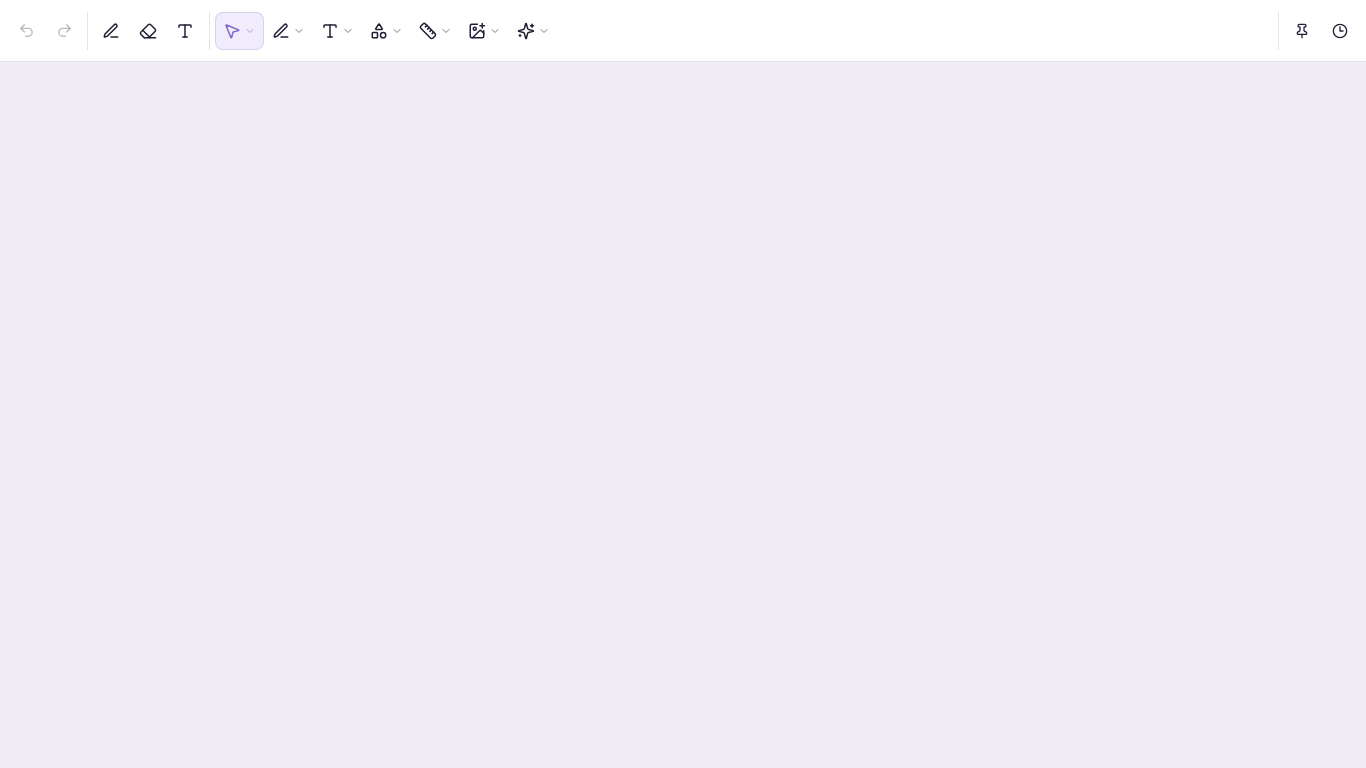
Notebook grouped toolbar › keeps user pins, filters tools, and remembers recent actions
Click the button named "Chèn": (484, 30) [460,12,509,50]
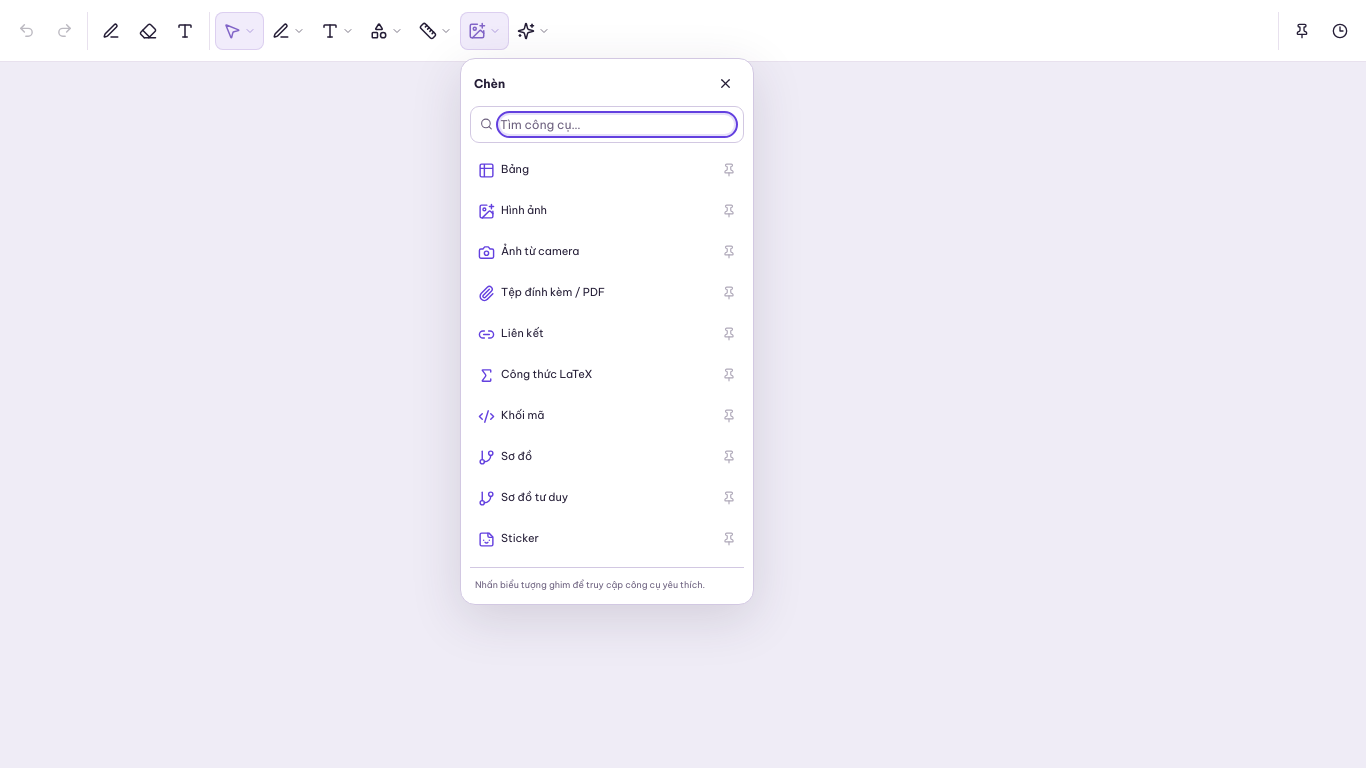
In the field labelled "Tìm công cụ": (617, 124) [500,114,734,134], type "Khối mã"
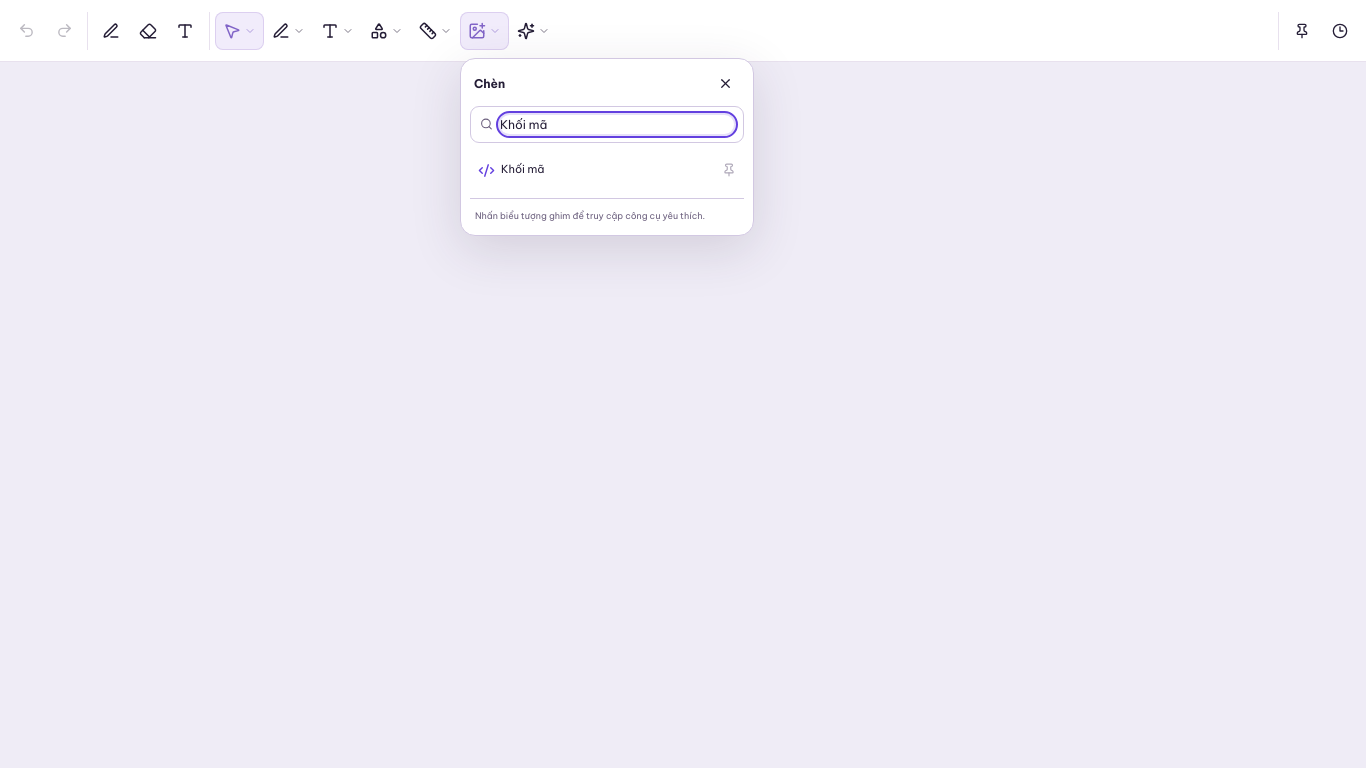
Expected: the menu item "Bảng" is gone
Click the button named "Ghim Khối mã": (729, 170) [714,153,744,188]
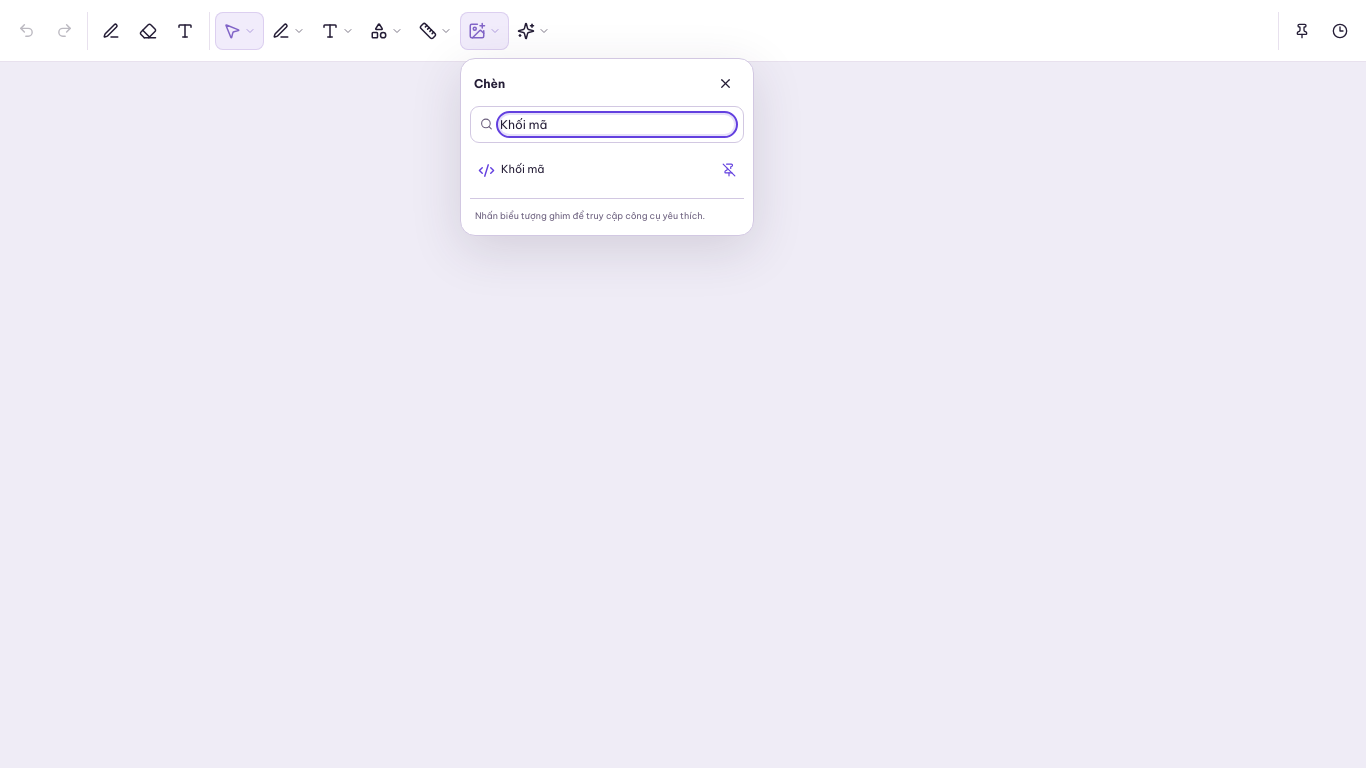
Click the menu item "Khối mã": (590, 170) [470,150,711,191]
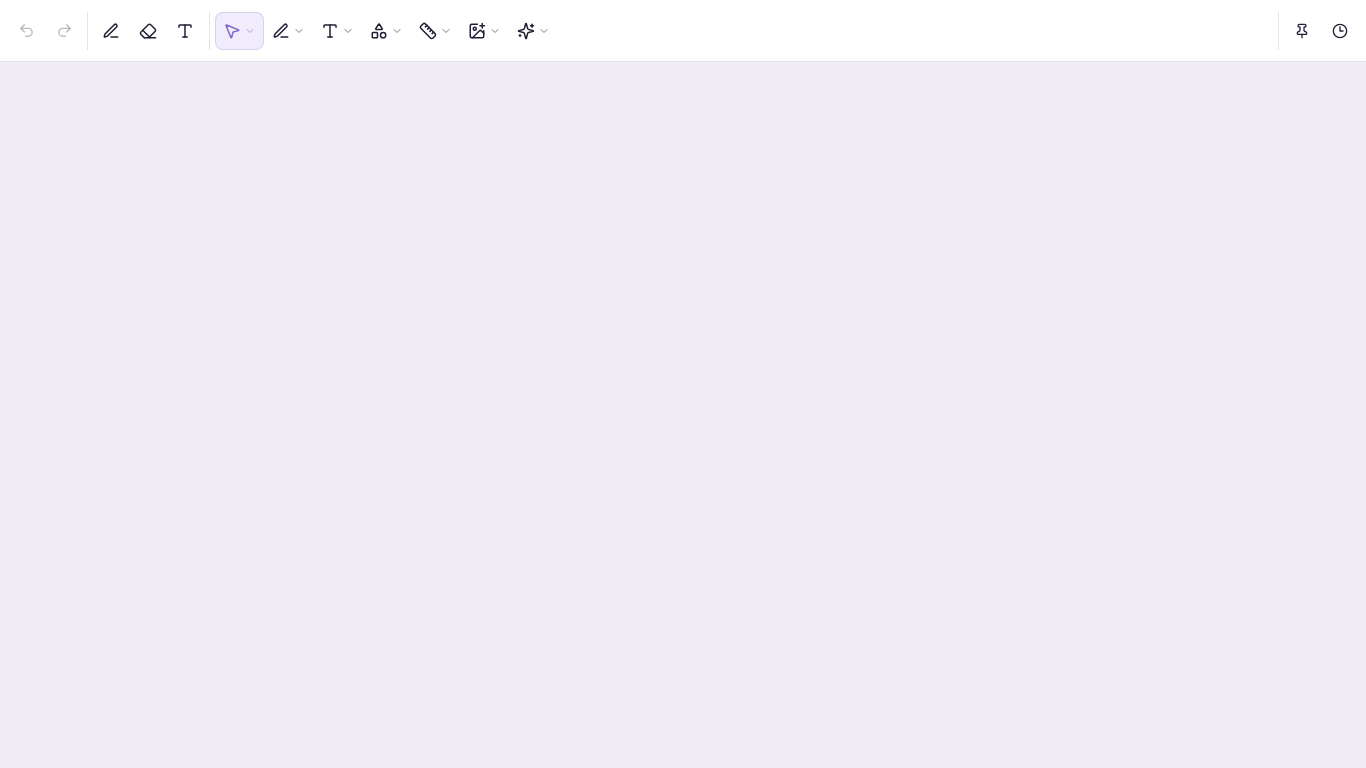
Click the button named "Công cụ vừa dùng": (1340, 30) [1322,12,1358,50]
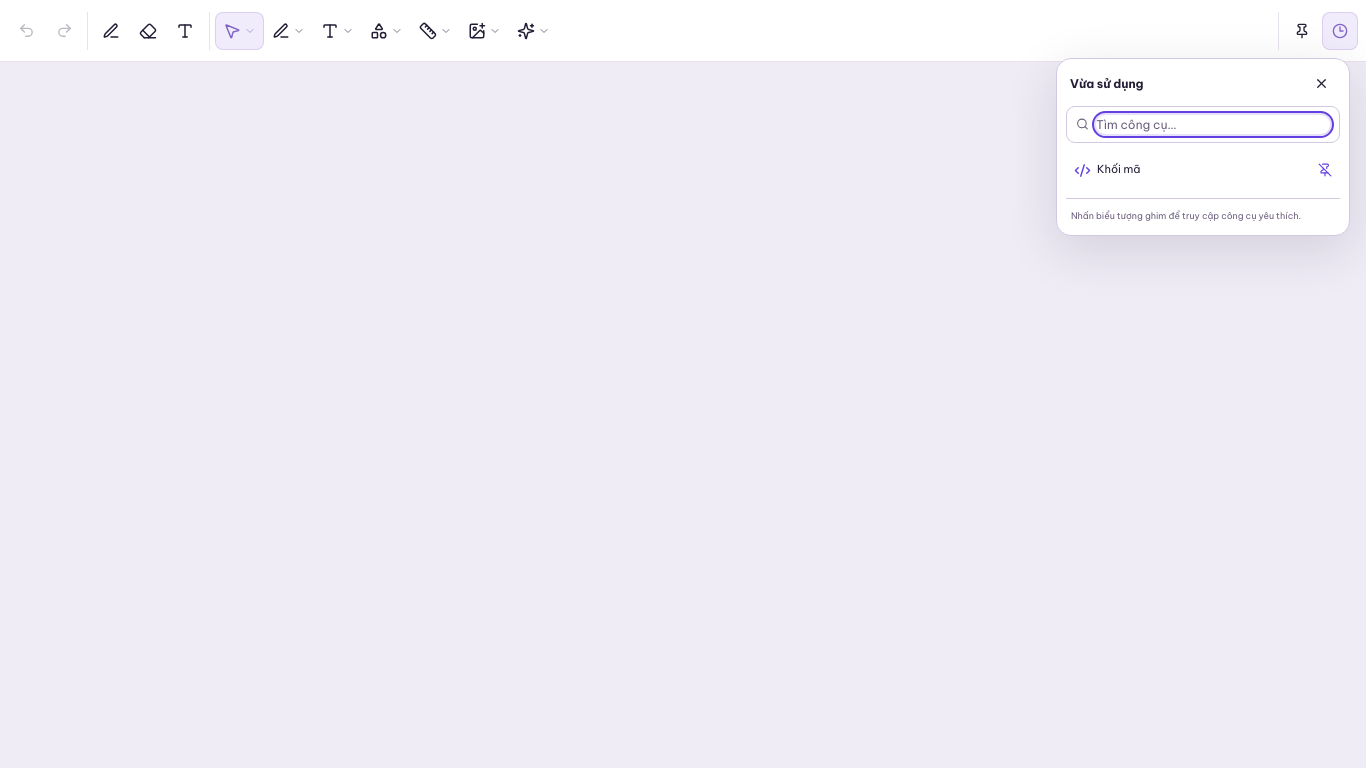
Expected: the menu item "Khối mã" is shown, [1066,150,1307,191]
Press Escape
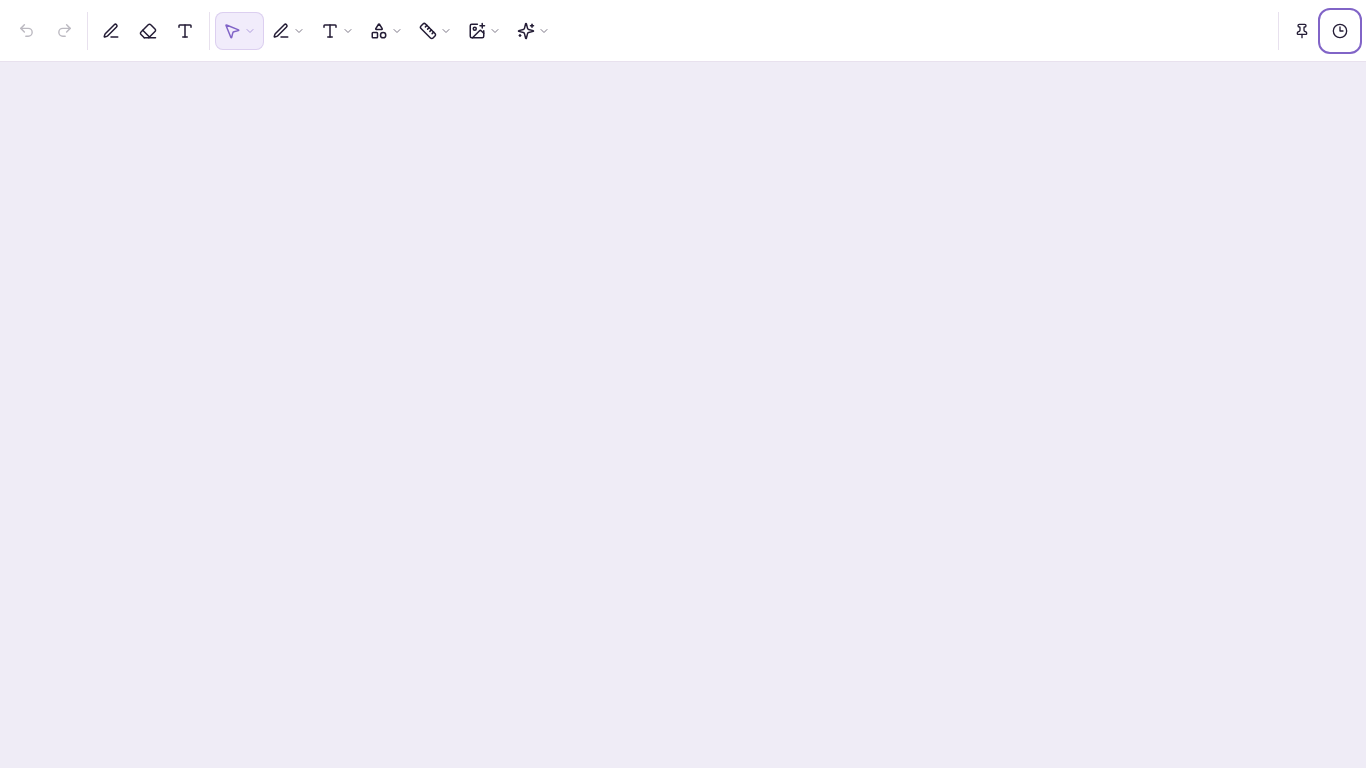
Expected: the menu is gone
